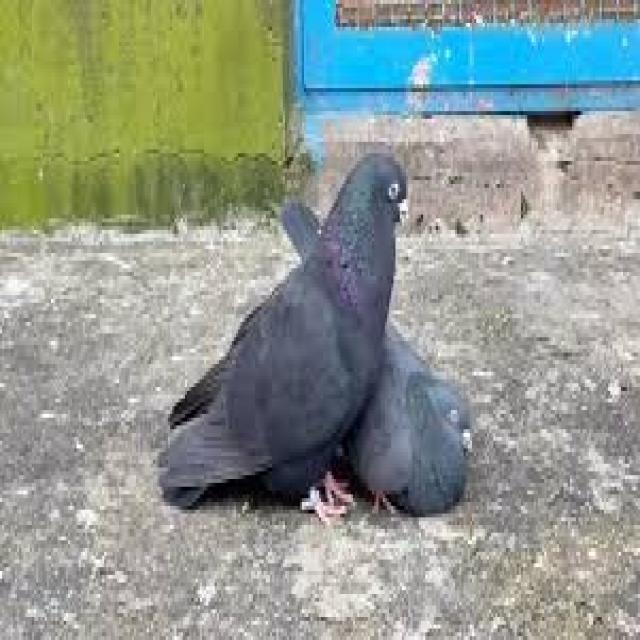bird: (156, 146, 410, 517), (290, 212, 478, 521)
